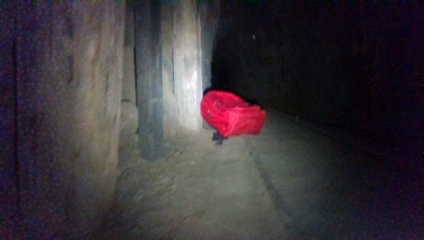backpack: (198, 88, 265, 136)
